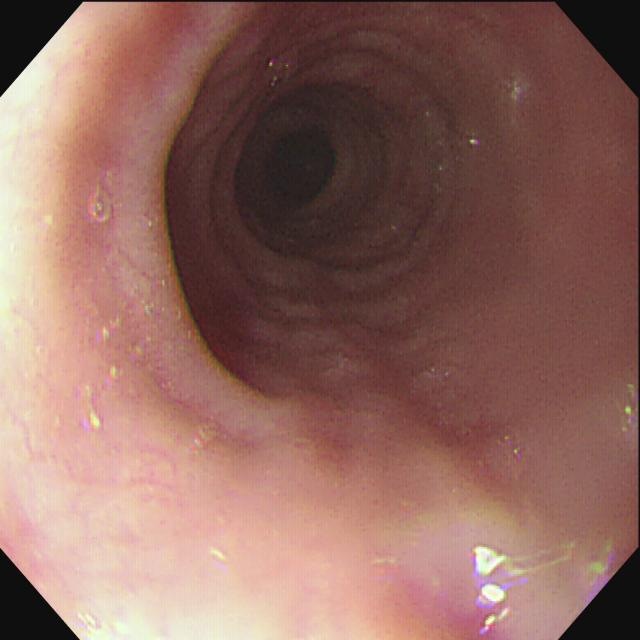E: (233, 97, 365, 235)
T: (89, 184, 118, 233)
U: (472, 540, 512, 636)
